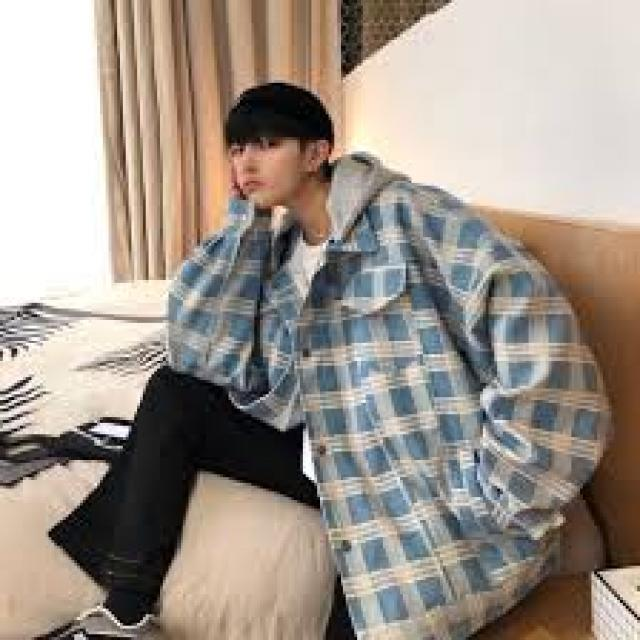plaid: (151, 174, 620, 631)
